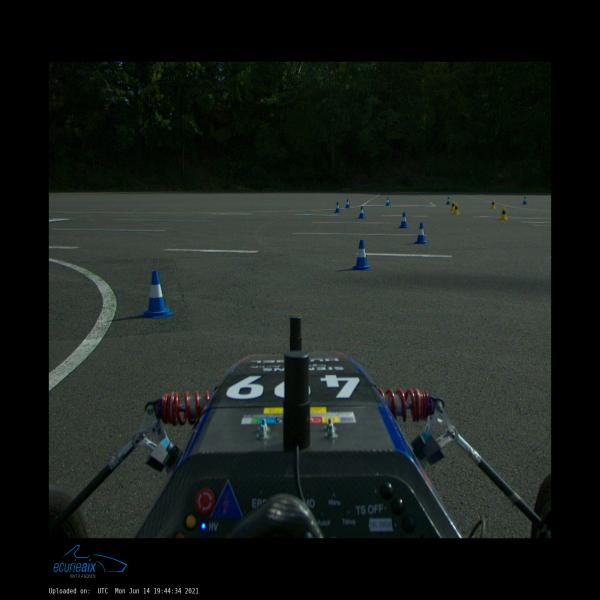blue_cone: (139, 271, 174, 318), (352, 240, 371, 270), (415, 222, 427, 244), (399, 212, 409, 228), (358, 206, 365, 219), (334, 202, 341, 213), (346, 199, 350, 208), (522, 197, 527, 204), (385, 198, 390, 205), (446, 196, 450, 204)
yellow_cone: (500, 207, 508, 220), (453, 203, 460, 214), (450, 200, 455, 211), (491, 199, 496, 209)
